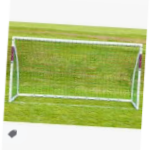goals: (8, 34, 143, 112)
